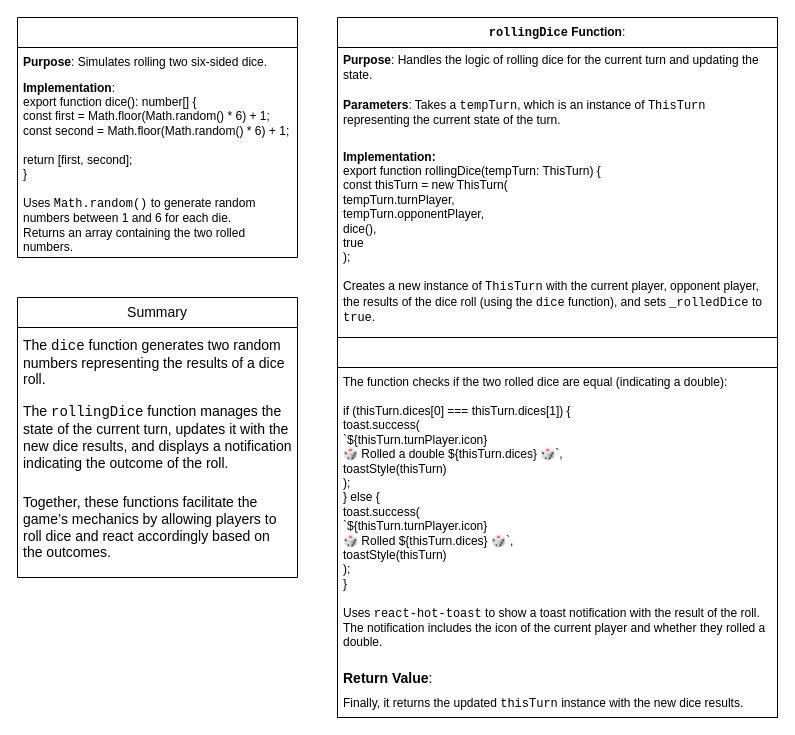
Image size: 795x735. Some labels were removed from this diagram. The box of each missing label's shape, as (x1, y1, x2, y2) in pixels:
dice Function :: (16, 16, 298, 258)
Displaying the Result : (Part of rollingDice func): (336, 336, 778, 718)
